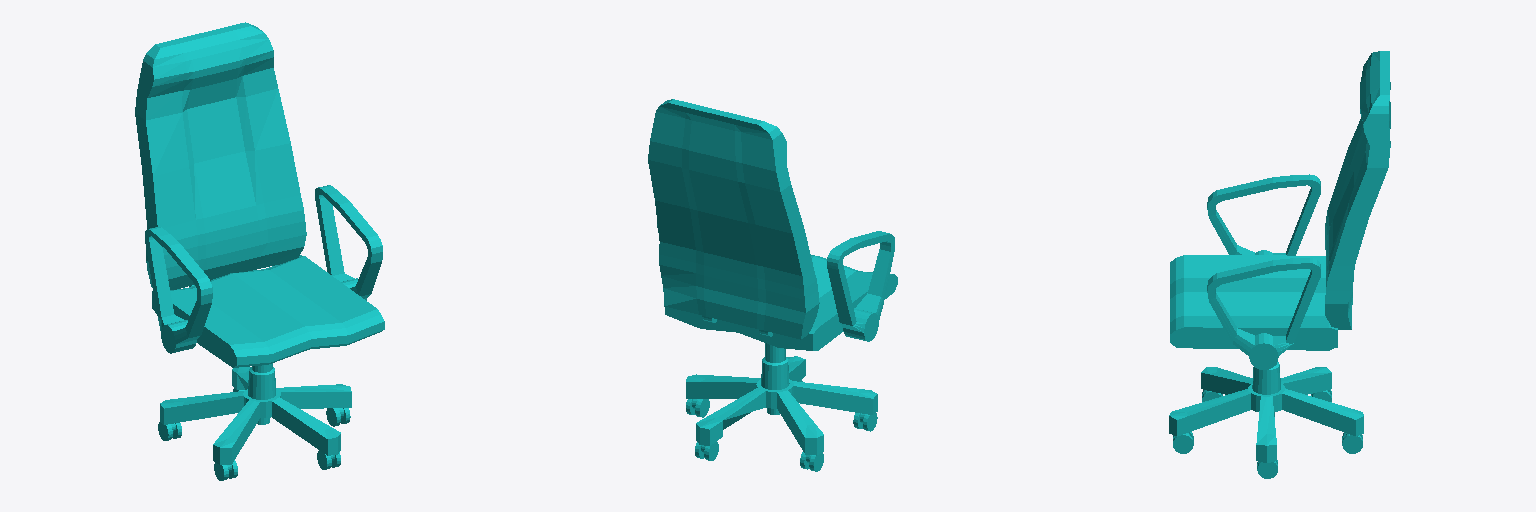
Rendered from chair.obj.
3 renders of one model, left to right at view 1: azimuth 30°, elevation 25°; view 2: azimuth 150°, elevation 25°; view 3: azimuth 270°, elevation 25°, orthographic.
Parts seen in each view (by area): view 1: pCube4_Untitled; view 2: pCube4_Untitled; view 3: pCube4_Untitled.
Part boxes in pixels (x1,y1,x2,y2): pCube4_Untitled: (135, 22, 384, 480); pCube4_Untitled: (648, 99, 897, 471); pCube4_Untitled: (1169, 51, 1390, 478).
Size of the model in its own units: 1.73 by 3.15 by 1.73.